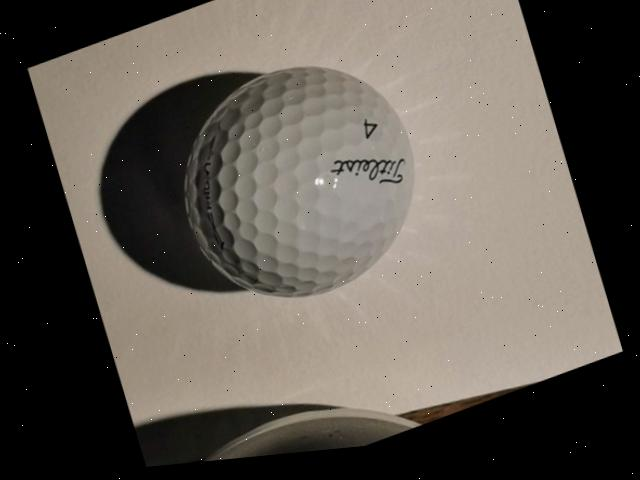Ball: (156, 34, 443, 339)
Titleist: (328, 142, 412, 210)
